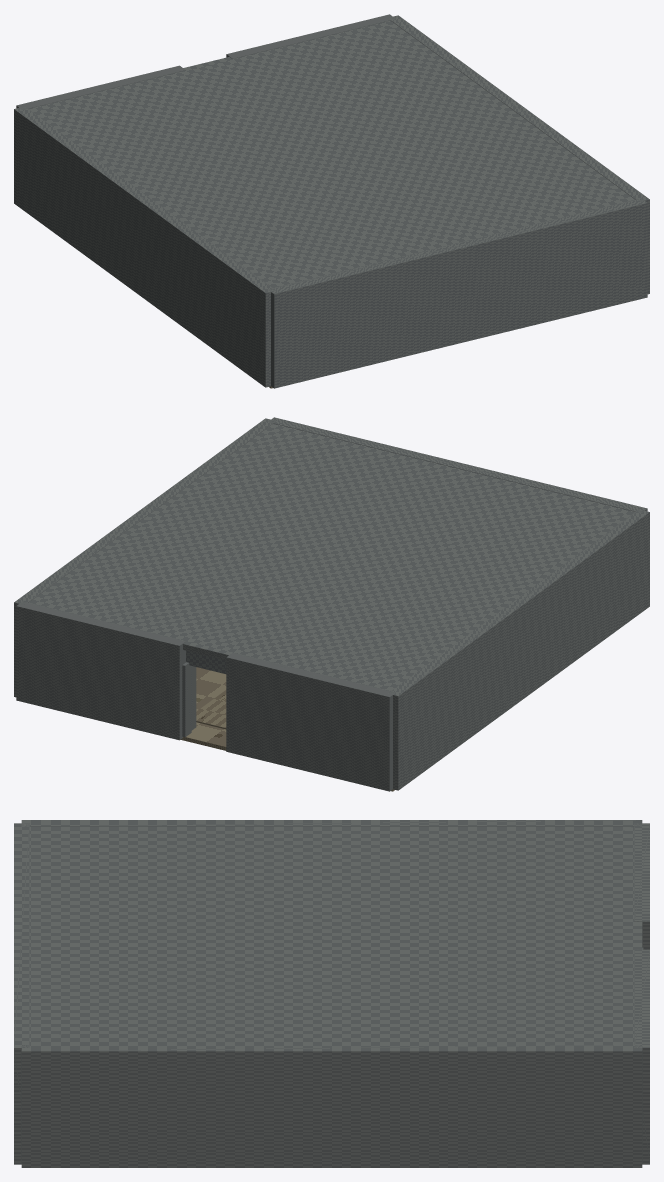
Rendered from tower_lobby.glb.
3 renders of one model, top to bottom at view 1: azimuth 30°, elevation 25°; view 2: azimuth 150°, elevation 25°; view 3: azimuth 270°, elevation 25°, orthographic. The views are drawn at different scales.
Visible parts, largest first — view 1: tower_lobby; view 2: tower_lobby; view 3: tower_lobby.
Boxes of the visible parts, left/top/right/bottom form: tower_lobby: left=14, top=14, right=649, bottom=388; tower_lobby: left=14, top=417, right=649, bottom=791; tower_lobby: left=14, top=820, right=649, bottom=1167.
Size of the model in its own units: 12.35 by 2.97 by 14.35.
Materials: 3 (3 with a texture image).
